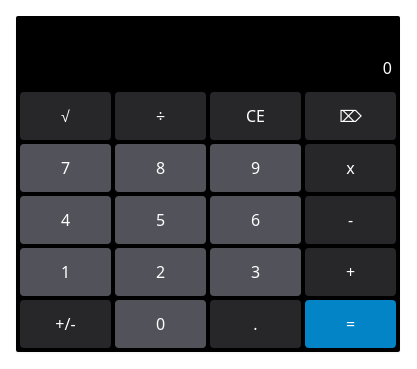
Scenario: App › substraction with proper data
Simulate subtracting numbers and verifying the result
What coordinates should you click on to do the following:
click the button "5"
I would click on:
 (160, 220)
Its box is [115,196,206,244].
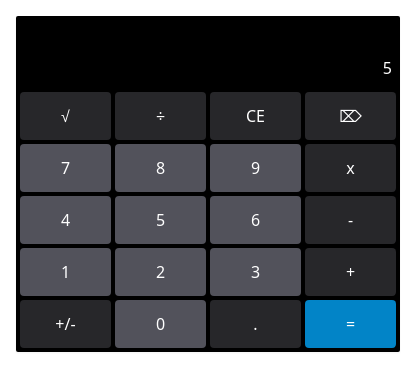
What coordinates should you click on to do the following:
click the button "0"
I would click on:
 (160, 324)
Its box is [115,300,206,348].
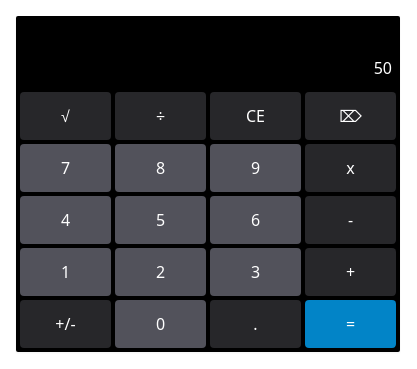
What coordinates should you click on to do the following:
click the button "-"
I would click on:
 (350, 220)
Its box is [305,196,396,244].
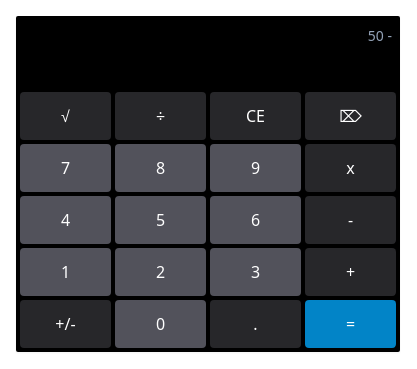
What coordinates should you click on to do the following:
click the button "4"
I would click on:
 (66, 220)
Its box is [20,196,111,244].
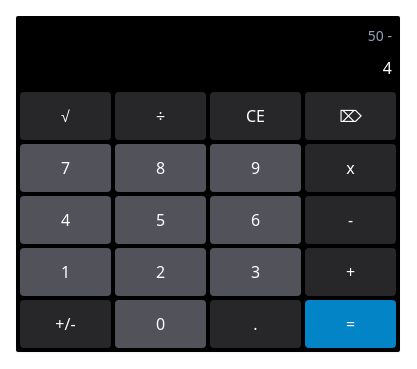
What coordinates should you click on to do the following:
click the button "="
I would click on:
 (350, 324)
Its box is [305,300,396,348].
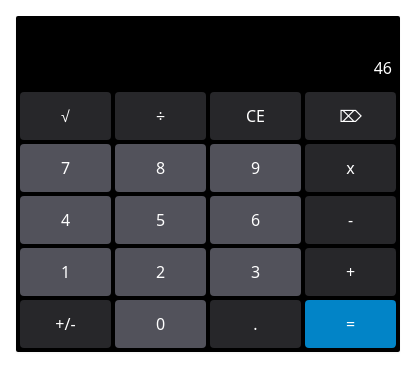
Expected: the text with test id "calculation" reads "46", [374,57,392,79]
